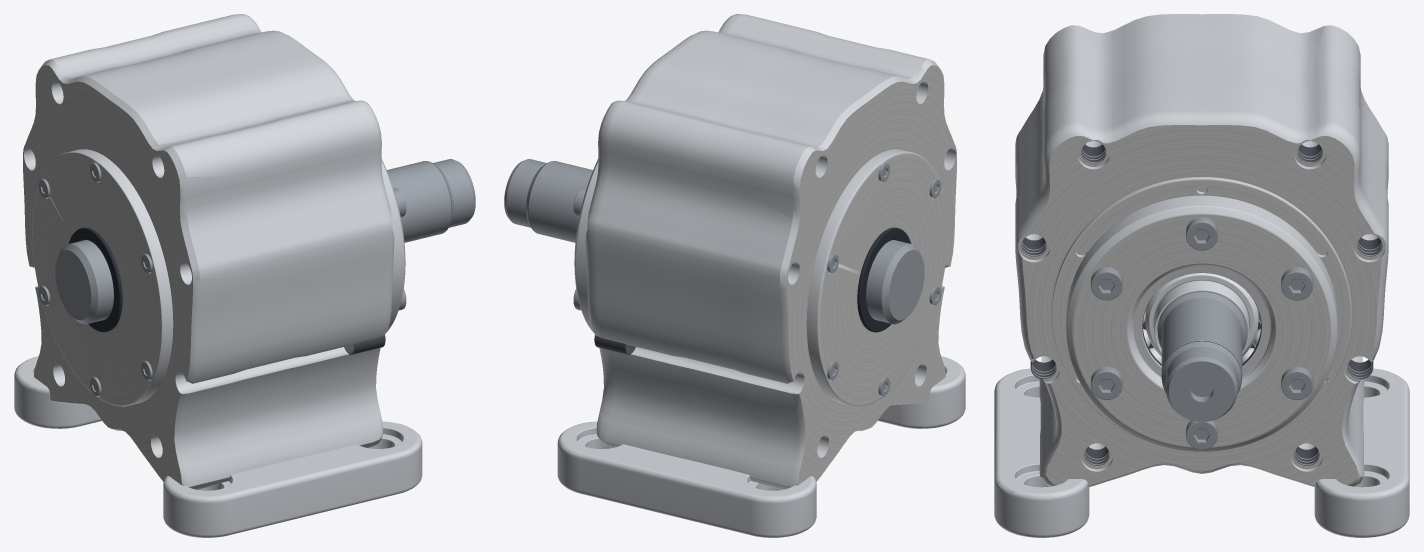
The model's file is PASSUNG_web.glb.
The picture shows the model from 3 angles, left to right: view 1: azimuth 30°, elevation 25°; view 2: azimuth 150°, elevation 25°; view 3: azimuth 270°, elevation 25°; orthographic projection. The views are drawn at different scales.
Visible parts, largest first — view 1: housing · Satin-milled aluminium, rear_cover · Satin-milled aluminium, shaft · Ground bearing steel, front_cover · Satin-milled aluminium, rear_cover · Nitrile seal, rear_cover · Ground bearing steel; view 2: housing · Satin-milled aluminium, rear_cover · Satin-milled aluminium, shaft · Ground bearing steel, front_cover · Satin-milled aluminium, rear_cover · Nitrile seal, rear_cover · Ground bearing steel; view 3: housing · Satin-milled aluminium, front_cover · Satin-milled aluminium, shaft · Ground bearing steel, fasteners · Ground bearing steel, outboard_bearing · Polished raceways, housing · Recessed steel and bearing cage, housing · Ground bearing steel.
Boxes of the visible parts, x1,y1,x2,y2 form: housing · Satin-milled aluminium: (14,14,422,537); rear_cover · Satin-milled aluminium: (32,149,173,406); shaft · Ground bearing steel: (55,159,475,324); front_cover · Satin-milled aluminium: (381,159,405,332); rear_cover · Nitrile seal: (68,227,122,332); rear_cover · Ground bearing steel: (38,163,152,396); housing · Satin-milled aluminium: (557,14,965,537); rear_cover · Satin-milled aluminium: (806,149,947,406); shaft · Ground bearing steel: (504,159,924,324); front_cover · Satin-milled aluminium: (574,159,598,332); rear_cover · Nitrile seal: (857,227,911,332); rear_cover · Ground bearing steel: (827,163,941,396); housing · Satin-milled aluminium: (994,14,1409,537); front_cover · Satin-milled aluminium: (1066,195,1337,451); shaft · Ground bearing steel: (1157,291,1246,421); fasteners · Ground bearing steel: (1090,217,1313,449); outboard_bearing · Polished raceways: (1143,273,1260,363); housing · Recessed steel and bearing cage: (1021,144,1382,465); housing · Ground bearing steel: (1021,141,1382,465).
Bounding box in the file's own units: 4.35 × 4.06 × 3.76.
Materials: 6 (1 with a texture image).
